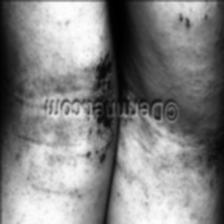Non-Cancerous Skin Condition: (78, 49, 114, 164), (176, 129, 224, 188), (170, 0, 212, 36)
